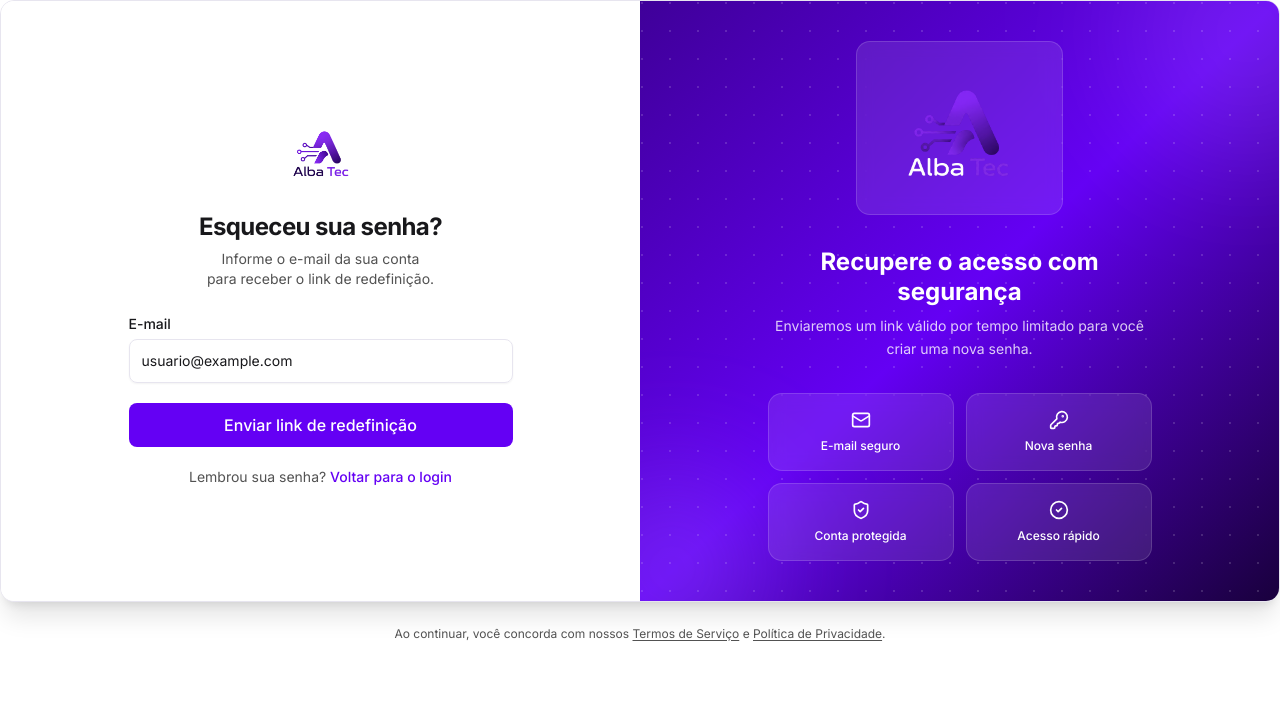
Test case: ForgotPasswordForm › mostra confirmação de envio após submeter
Click the button "Enviar link de redefinição".
click(320, 425)  # box x1=128 y1=403 x2=512 y2=447
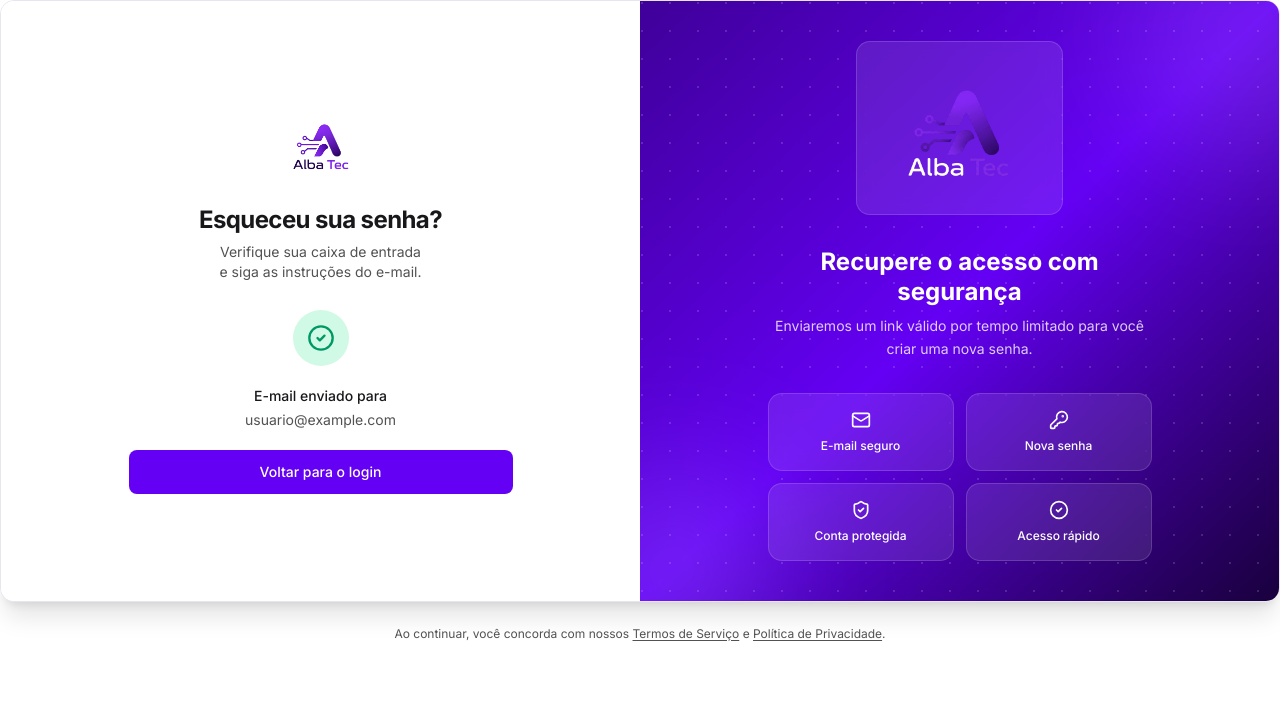
Now the text "E-mail enviado para" is shown, box x1=245 y1=386 x2=396 y2=406
Now the text "usuario@example.com" is shown, box x1=245 y1=410 x2=396 y2=430
